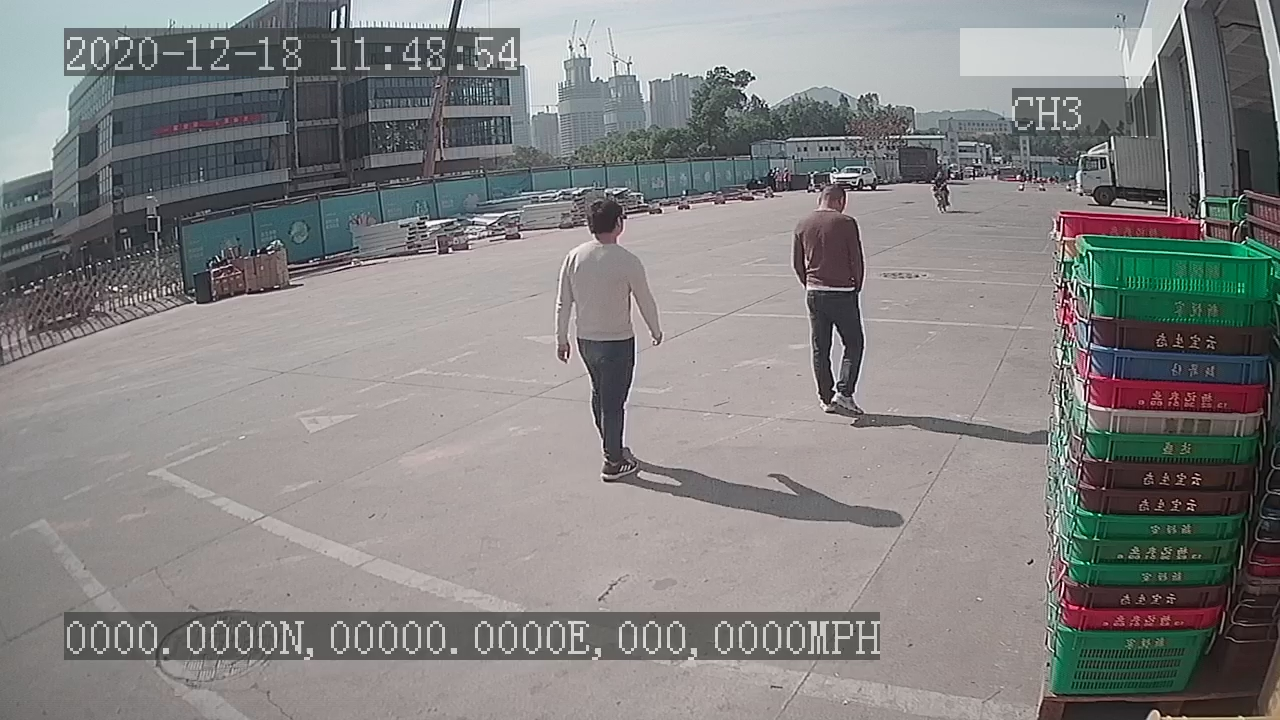person: (551, 197, 668, 486), (786, 181, 874, 422)
